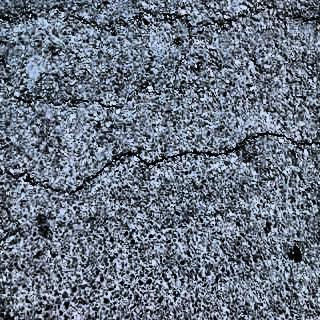crack: (0, 133, 320, 206)
